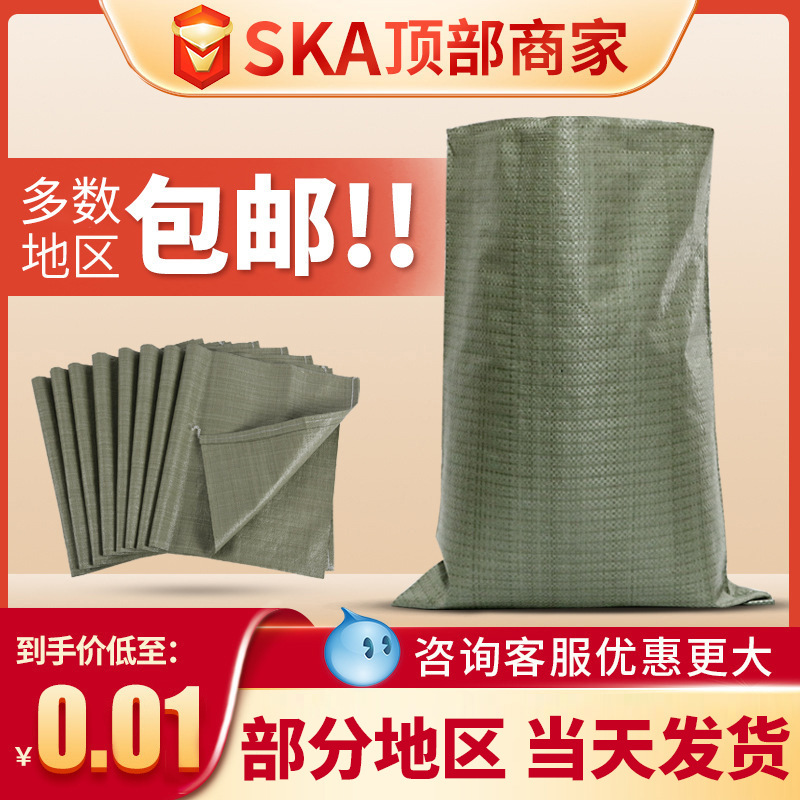Parcel: (395, 117, 768, 608)
